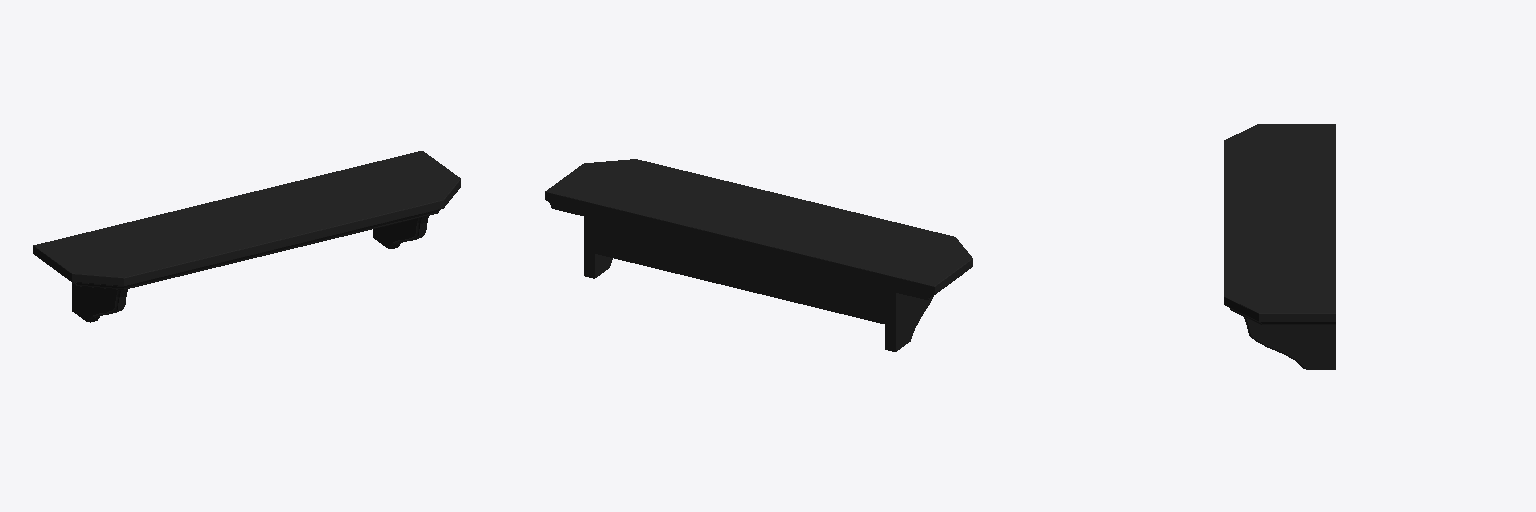
Rendered from Whelf.obj.
The picture shows the model from 3 angles: view 1: azimuth 30°, elevation 25°; view 2: azimuth 150°, elevation 25°; view 3: azimuth 270°, elevation 25°; orthographic projection.
Visible parts, largest first — view 1: textureEditorIsolateSelectSet polySurface3; view 2: textureEditorIsolateSelectSet polySurface3; view 3: textureEditorIsolateSelectSet polySurface3.
Boxes of the visible parts, x1=… form: textureEditorIsolateSelectSet polySurface3: x1=33, y1=151, x2=460, y2=322; textureEditorIsolateSelectSet polySurface3: x1=545, y1=159, x2=972, y2=351; textureEditorIsolateSelectSet polySurface3: x1=1224, y1=124, x2=1335, y2=369.
Bounding box in the file's own units: 5.27 × 0.9732 × 1.32.